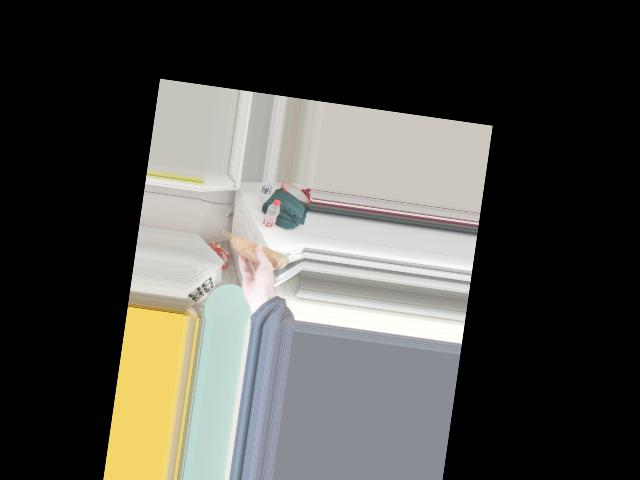sweet_potato: (220, 228, 287, 272)
